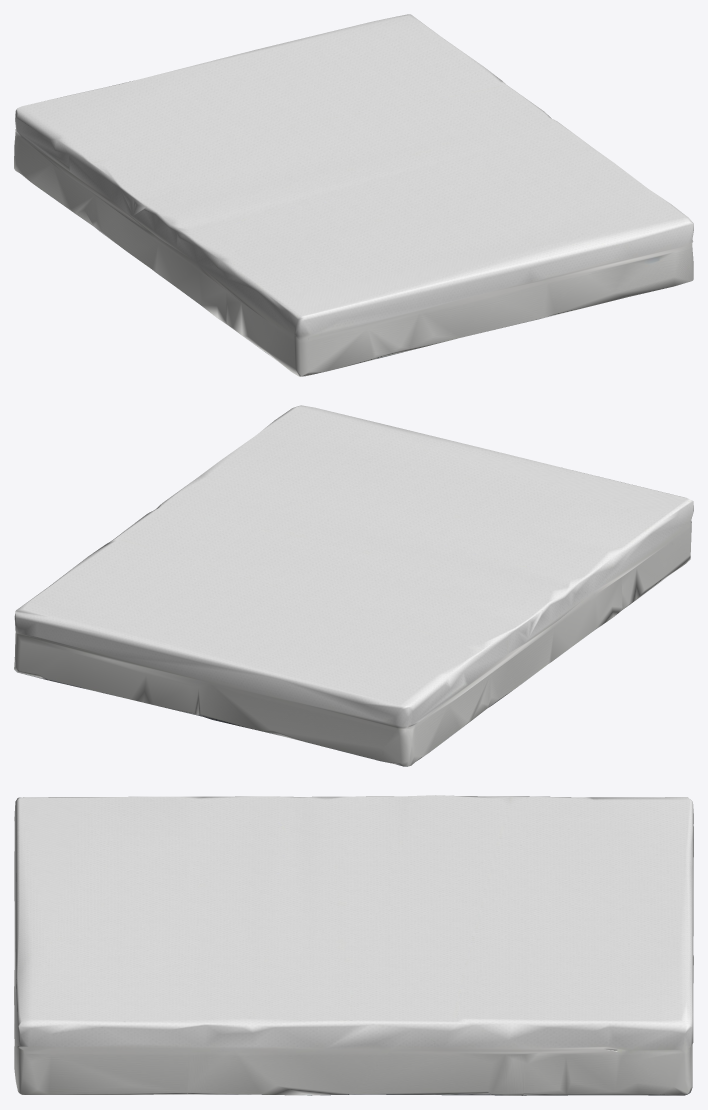
3 views of the same model, one above another, from view 1: azimuth 30°, elevation 25°; view 2: azimuth 150°, elevation 25°; view 3: azimuth 270°, elevation 25° (orthographic). The views are drawn at different scales.
Visible parts, largest first — view 1: model; view 2: model; view 3: model.
Part boxes in pixels (x1,y1,x2,y2): model: [14, 14, 693, 376]; model: [14, 405, 693, 766]; model: [14, 795, 693, 1095].
Bounding box in the file's own units: 1.61 × 0.2436 × 2.01.
1 material, 1 textured.
